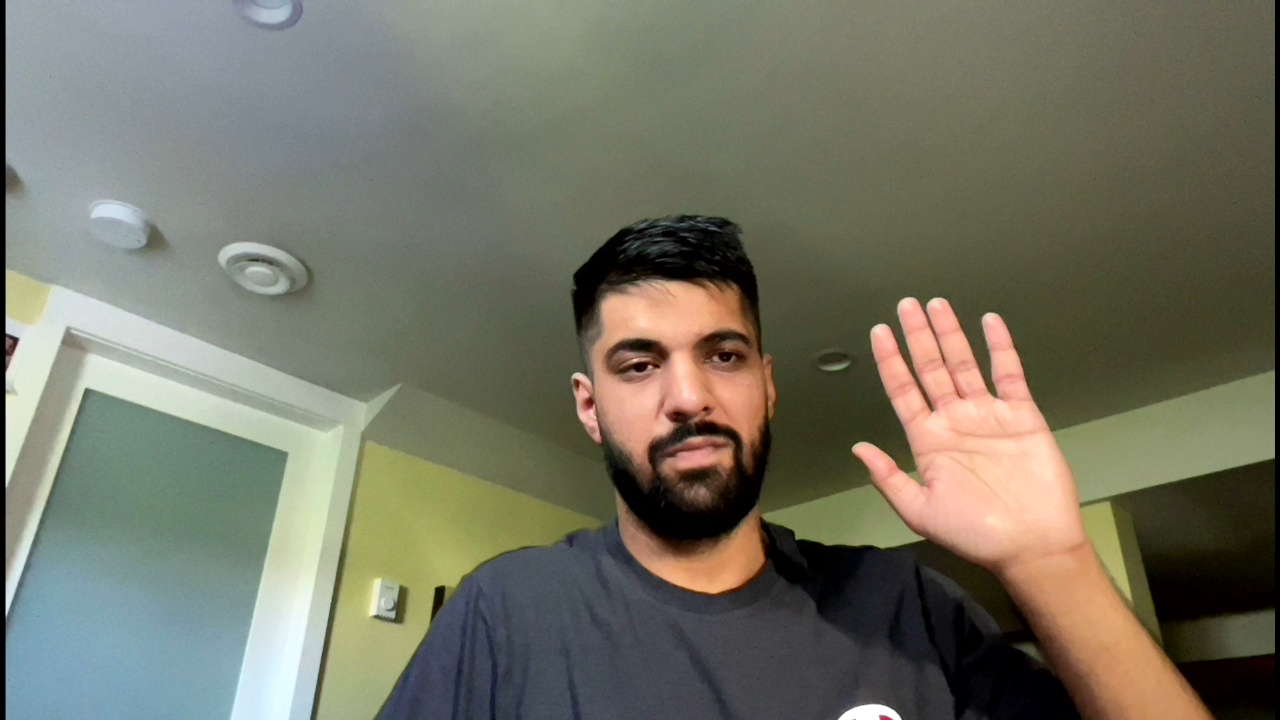Hey!: (839, 290, 1109, 552)
